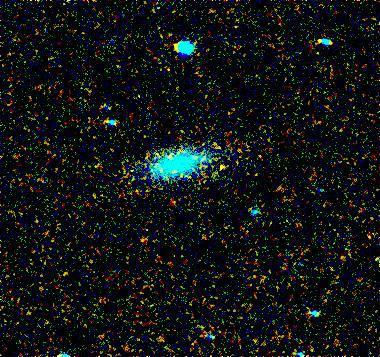star: (206, 152, 236, 182)
